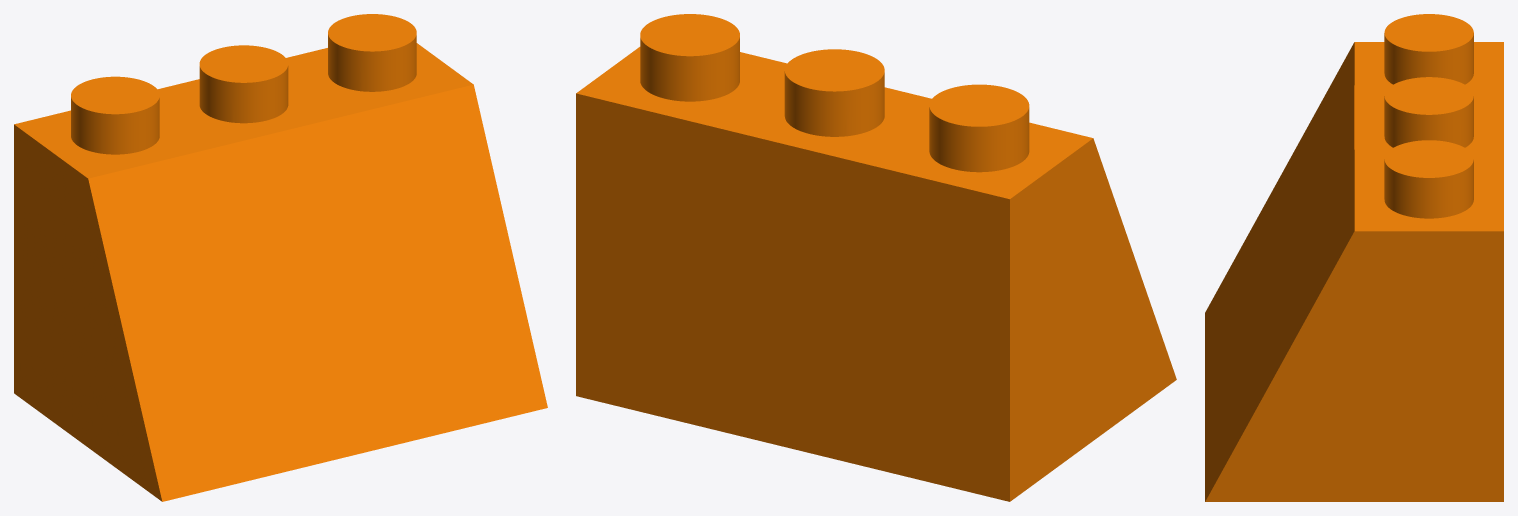
Rendered from 2x3 Ramp.glb.
3 renders of one model, left to right at view 1: azimuth 30°, elevation 25°; view 2: azimuth 150°, elevation 25°; view 3: azimuth 270°, elevation 25°, orthographic. The views are drawn at different scales.
Visible parts, largest first — view 1: 2x3 Ramp; view 2: 2x3 Ramp; view 3: 2x3 Ramp.
Part boxes in pixels (x1,y1,x2,y2): 2x3 Ramp: (14, 14, 547, 501); 2x3 Ramp: (576, 14, 1176, 501); 2x3 Ramp: (1205, 14, 1503, 501).
Size of the model in its own units: 0.03 by 0.023 by 0.02.
